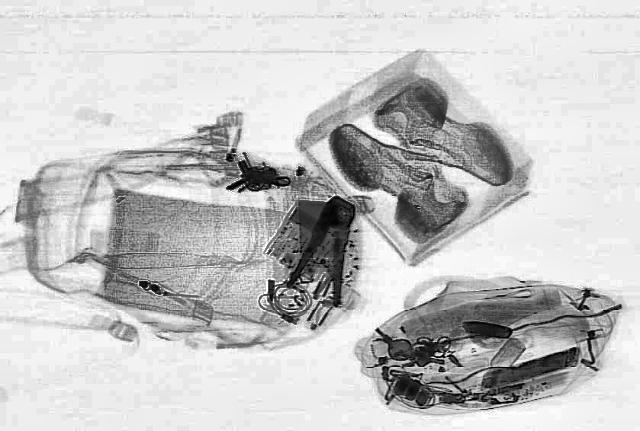Pliers: (278, 194, 376, 308)
